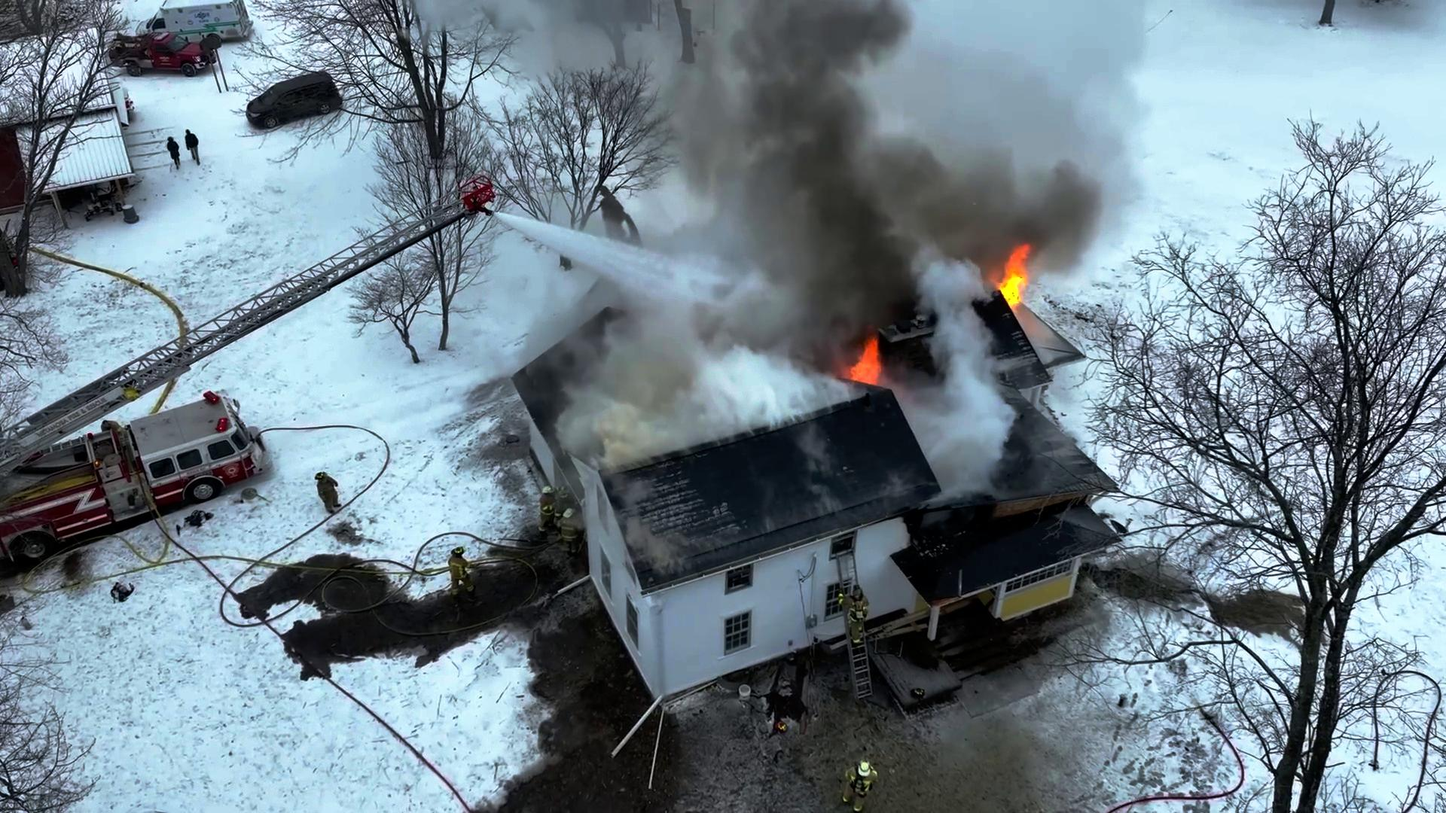smoke: (757, 19, 907, 268)
